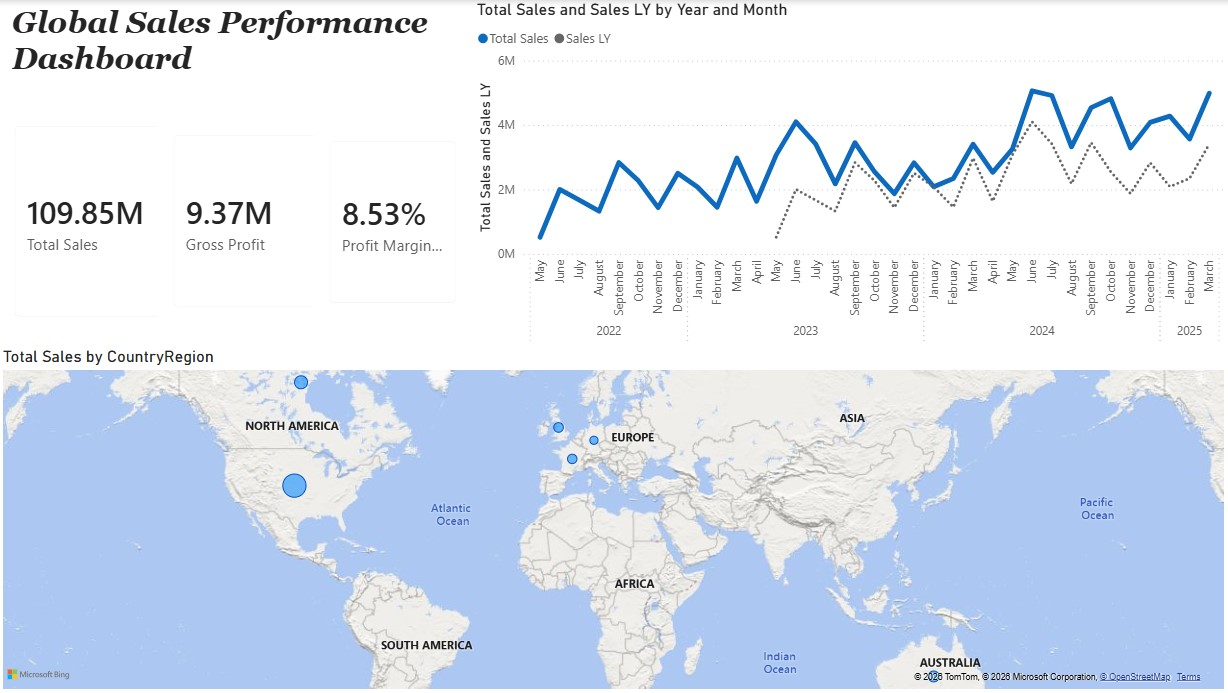

The dashboard page shown, as its layout file describes it:
{"tool":"powerbi","page":{"name":"Page 1","canvas":[1280,720],"ordinal":0},"visuals":[{"type":"textbox","box":[9.4,0,483.1,113.8],"z":0},{"type":"cardVisual","fields":{"Data":["Fact_Sales.Total Sales"]},"box":[0,113.8,210.4,232.2],"z":1000},{"type":"cardVisual","fields":{"Data":["Fact_Sales.Gross Profit"]},"box":[165.2,123.1,197.9,213.5],"z":2000},{"type":"cardVisual","fields":{"Data":["Fact_Sales.Profit Margin %"]},"box":[327.3,129.4,165.2,202.6],"z":3000},{"type":"lineChart","fields":{"Category":["Dim_Date.Year","Dim_Date.Month"],"Y":["Fact_Sales.Total Sales","Fact_Sales.Sales LY"]},"box":[492.5,0,787,386.5],"z":4000},{"type":"map","fields":{"Category":["Dim_Geography.CountryRegion"],"Size":["Fact_Sales.Total Sales"]},"box":[0,360,1279.5,360],"z":5000}]}

Visuals, with their boxes in screenshot pixels (x1, y1, x2, y2), scaled from the page's 1280x720 canvas onto the 1228x693 screenshot:
textbox: BBox(9, 0, 472, 110)
cardVisual - Fact_Sales.Total Sales: BBox(0, 110, 202, 333)
cardVisual - Fact_Sales.Gross Profit: BBox(158, 118, 348, 324)
cardVisual - Fact_Sales.Profit Margin %: BBox(314, 125, 472, 320)
lineChart - Dim_Date.Year x Dim_Date.Month: BBox(472, 0, 1227, 372)
map - Dim_Geography.CountryRegion x Fact_Sales.Total Sales: BBox(0, 346, 1227, 692)
